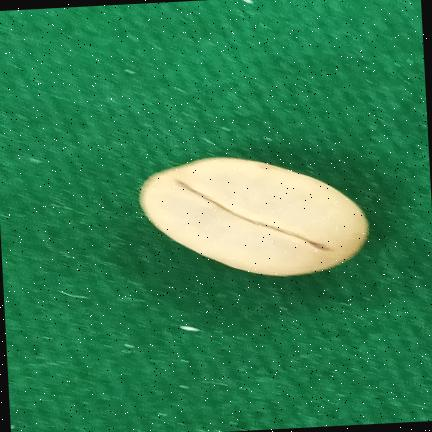parchment: (140, 157, 369, 276)
